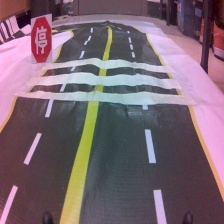stop: (29, 13, 54, 66)
